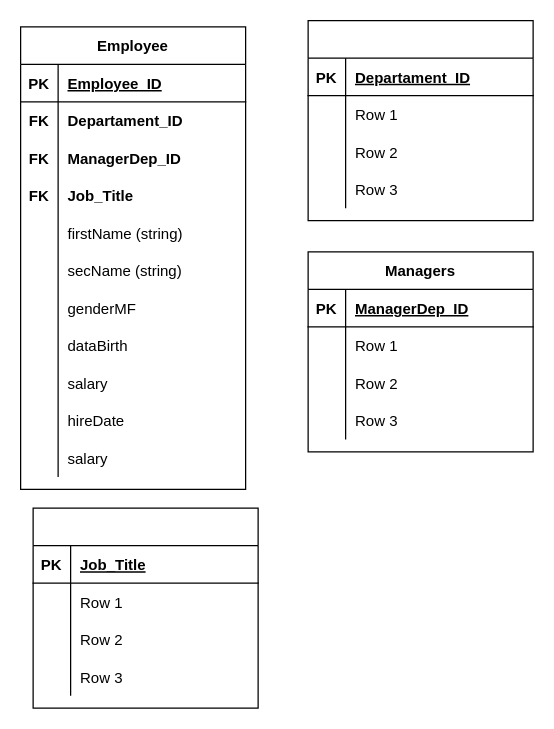
The diagram is 554 pixels wide and 729 high, and some of its shapes have lost their labels. Each missing label, with the box of its shape:
Departaments: (307, 19, 533, 221)
Ref_Job_Titles: (32, 507, 258, 708)
